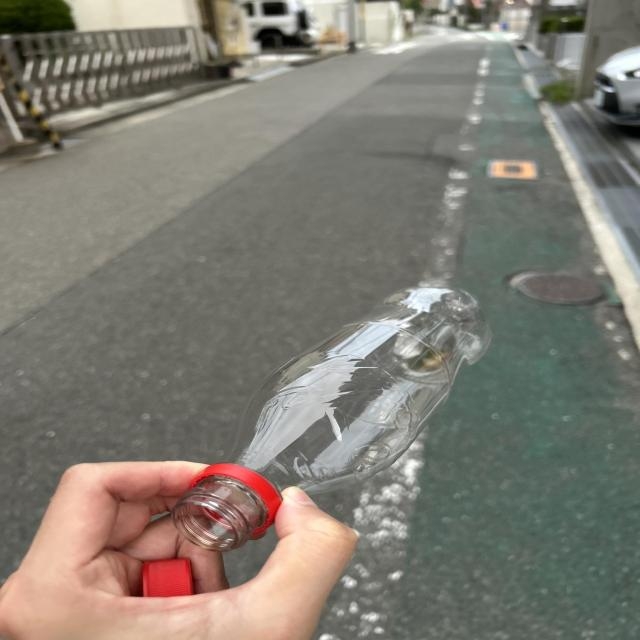empty: (172, 287, 490, 551)
